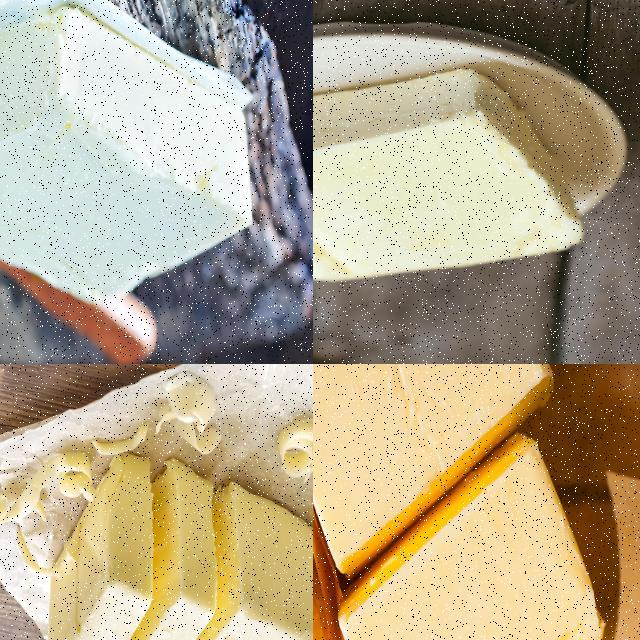Butter: (0, 7, 253, 307), (313, 69, 585, 284), (336, 432, 605, 639), (313, 364, 556, 582), (42, 461, 312, 639)
